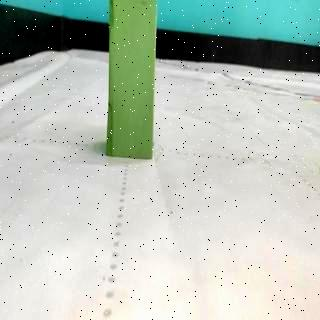greenbox: (106, 0, 161, 161)
